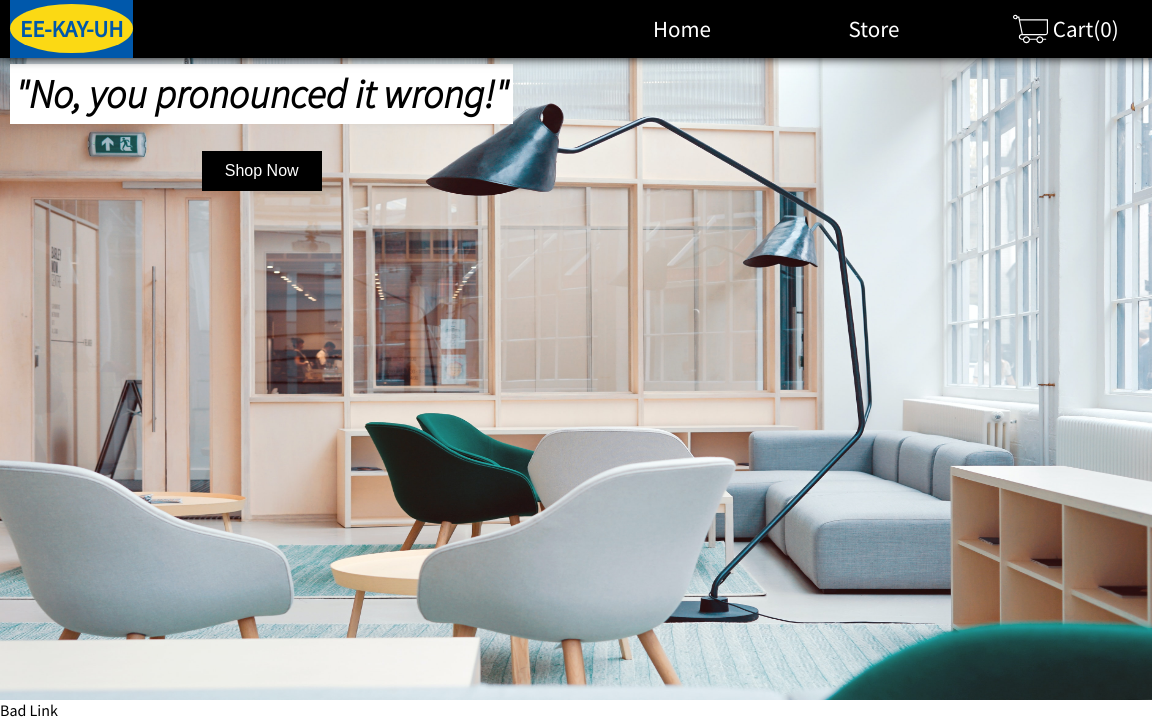
Test: Bad routing › Bad routing lead to NotFoundPage
(page scrolled)
Click the link with test id "badLink". click: (29, 710)
box: [0,700,58,719]
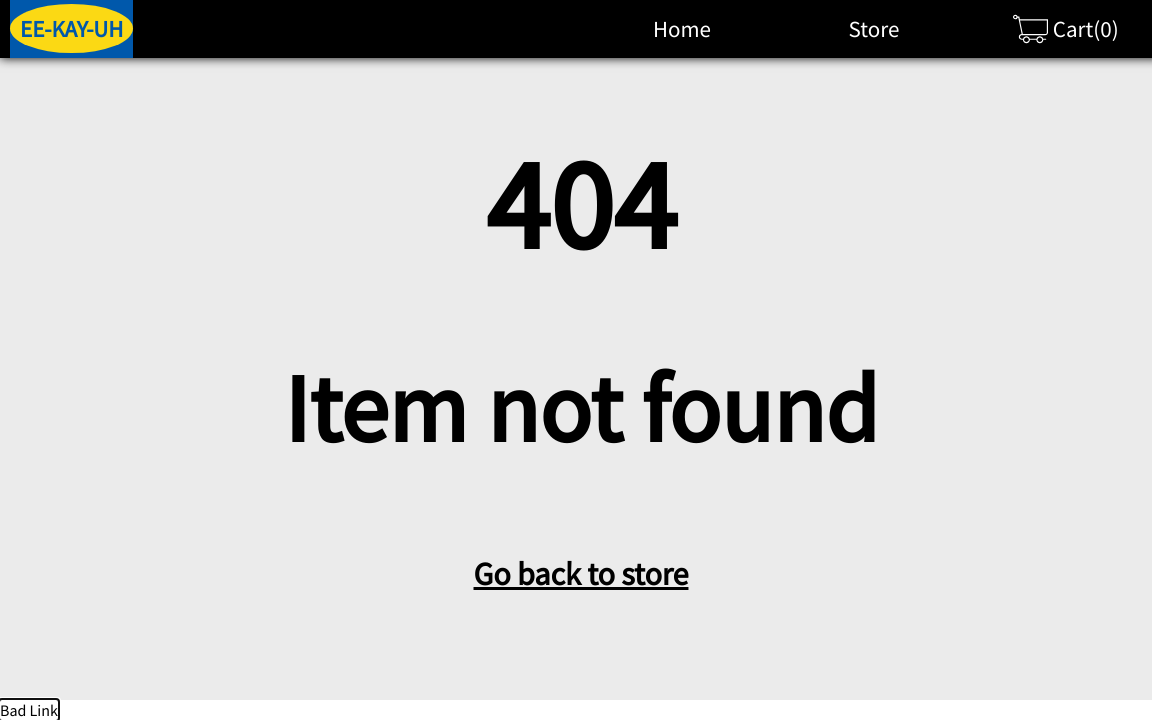
Result: the heading "Item not found" is shown at [284,348,878,468]
